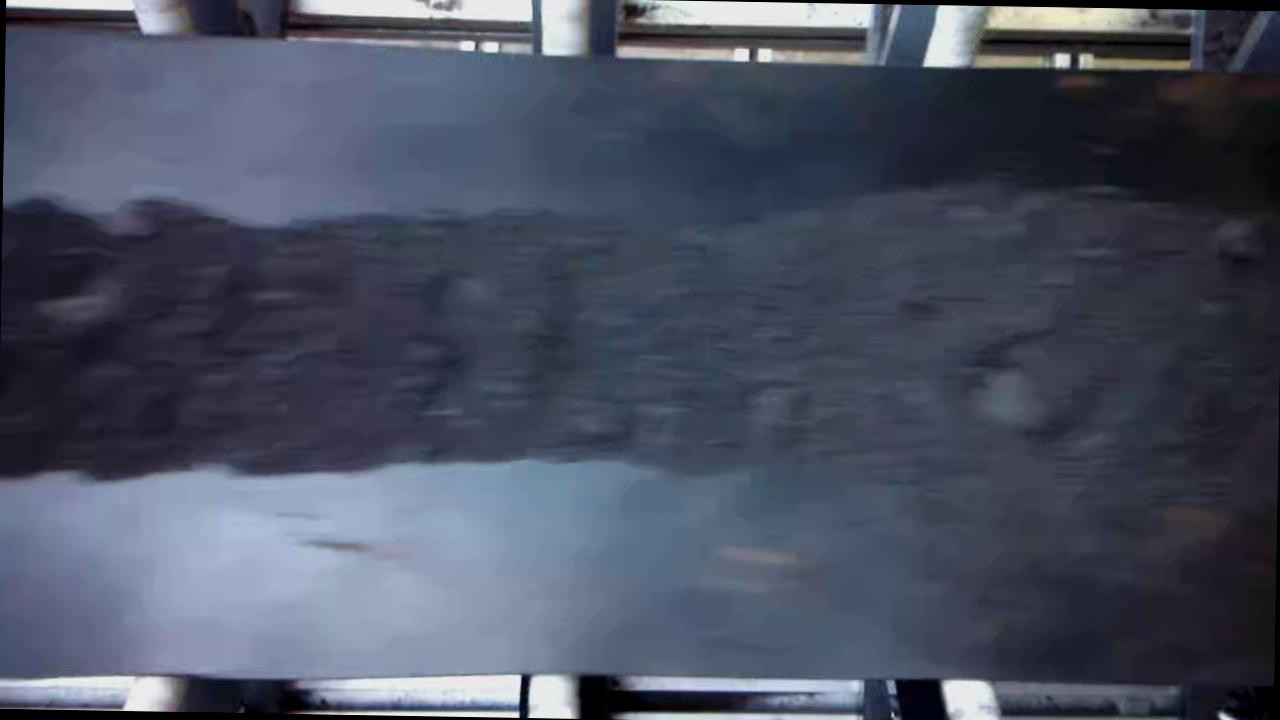conveyor: (0, 51, 1280, 684)
